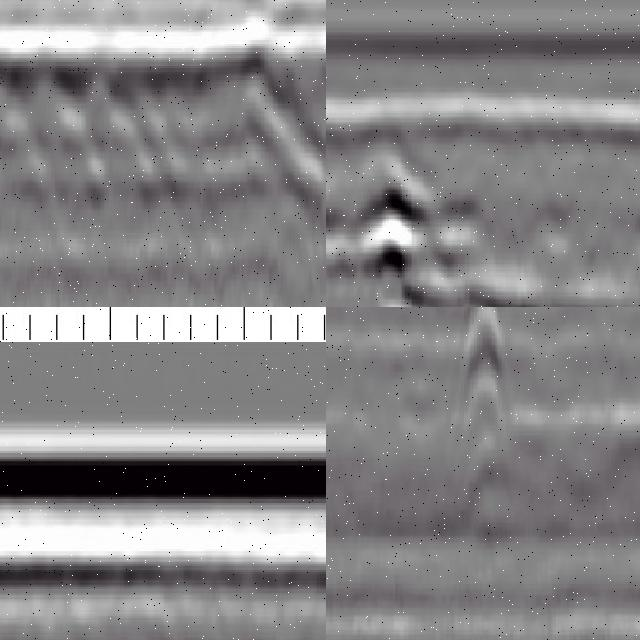crack: (463, 308, 502, 460)
loose: (1, 13, 327, 212), (327, 160, 524, 308)
